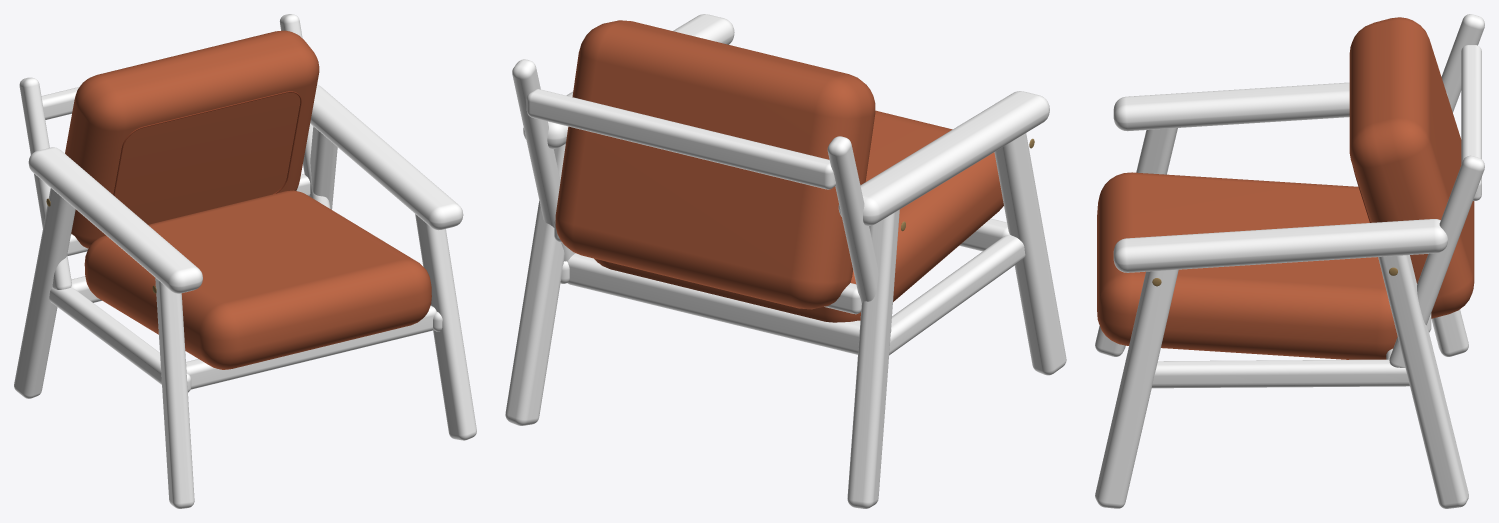
Rendered from armchair.glb.
3 renders of one model, left to right at view 1: azimuth 30°, elevation 25°; view 2: azimuth 150°, elevation 25°; view 3: azimuth 270°, elevation 25°, orthographic. The views are drawn at different scales.
Parts seen in each view (by area): view 1: Deep tailored seat cushion, Reclined tailored back cushion, Sculpted walnut armrest, Sculpted walnut armrest.001, Front splayed walnut leg.001, Front splayed walnut leg, Rear splayed walnut leg, Side support rail, Walnut seat cross rail, Rear backrest upright, Rear splayed walnut leg.001, Rear backrest upright.001 (+2 smaller); view 2: Reclined tailored back cushion, Deep tailored seat cushion, Walnut back cross rail.001, Sculpted walnut armrest, Rear splayed walnut leg, Front splayed walnut leg, Walnut seat cross rail.001, Rear splayed walnut leg.001, Side support rail, Rear backrest upright, Rear backrest upright.001, Sculpted walnut armrest.001 (+2 smaller); view 3: Deep tailored seat cushion, Reclined tailored back cushion, Sculpted walnut armrest.001, Sculpted walnut armrest, Rear splayed walnut leg.001, Front splayed walnut leg.001, Side support rail.001, Rear backrest upright.001, Walnut back cross rail.001, Front splayed walnut leg, Rear backrest upright, Rear splayed walnut leg.
Part boxes in pixels (<box>): Deep tailored seat cushion: <box>84,190,431,369</box>; Reclined tailored back cushion: <box>65,30,319,248</box>; Sculpted walnut armrest: <box>28,147,202,293</box>; Sculpted walnut armrest.001: <box>310,84,463,230</box>; Front splayed walnut leg.001: <box>415,214,476,440</box>; Front splayed walnut leg: <box>155,278,194,508</box>; Rear splayed walnut leg: <box>14,188,75,398</box>; Side support rail: <box>49,287,191,392</box>; Walnut seat cross rail: <box>186,305,436,389</box>; Rear backrest upright: <box>19,77,71,289</box>; Rear splayed walnut leg.001: <box>310,126,337,209</box>; Rear backrest upright.001: <box>279,14,330,208</box>; Reclined tailored back cushion: <box>555,20,875,309</box>; Deep tailored seat cushion: <box>594,110,1003,322</box>; Walnut back cross rail.001: <box>526,89,835,189</box>; Sculpted walnut armrest: <box>838,91,1049,225</box>; Rear splayed walnut leg: <box>847,209,899,508</box>; Front splayed walnut leg: <box>994,133,1066,375</box>; Walnut seat cross rail.001: <box>567,253,860,354</box>; Rear splayed walnut leg.001: <box>505,144,565,425</box>; Side support rail: <box>889,234,1025,355</box>; Rear backrest upright: <box>827,136,891,332</box>; Rear backrest upright.001: <box>512,59,575,261</box>; Sculpted walnut armrest.001: <box>523,14,734,148</box>; Deep tailored seat cushion: <box>1097,172,1397,359</box>; Reclined tailored back cushion: <box>1349,17,1474,318</box>; Sculpted walnut armrest.001: <box>1113,219,1447,272</box>; Sculpted walnut armrest: <box>1113,82,1447,131</box>; Rear splayed walnut leg.001: <box>1378,255,1468,508</box>; Front splayed walnut leg.001: <box>1095,269,1178,508</box>; Side support rail.001: <box>1152,359,1409,388</box>; Rear backrest upright.001: <box>1389,155,1484,367</box>; Walnut back cross rail.001: <box>1461,45,1481,200</box>; Front splayed walnut leg: <box>1095,128,1177,356</box>; Rear backrest upright: <box>1441,14,1484,112</box>; Rear splayed walnut leg: <box>1431,309,1468,356</box>.
Size of the model in its own units: 0.849 by 0.8683 by 0.8486.
